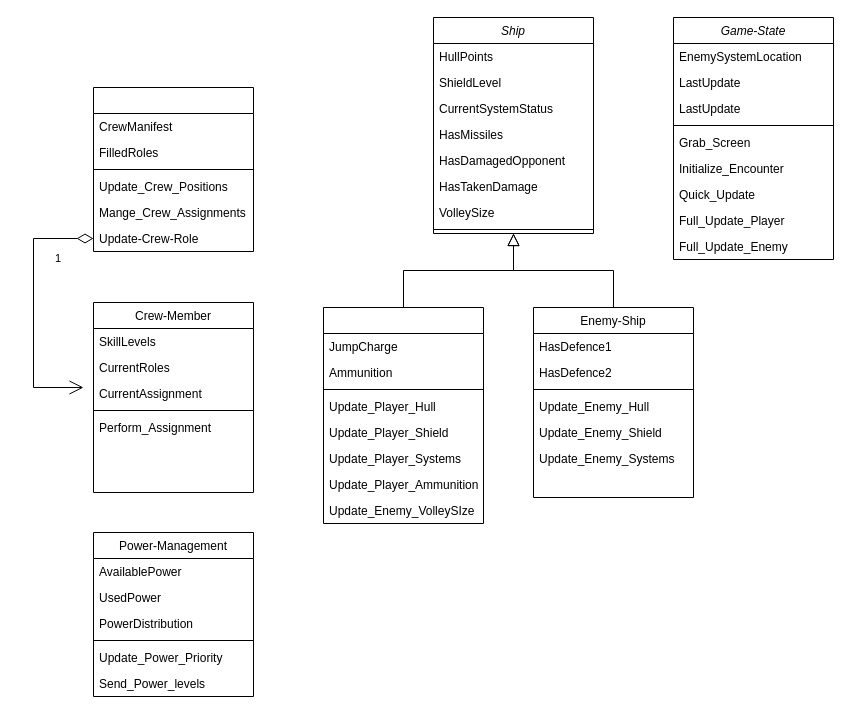
Some shapes in this 851 by 717 pixel diagram are drawn without their labels. The shapes that lost their labels are listed below. From the top down, each one's box as (x1, y1, x2, y2) in pixels, then its label:
(92, 86, 254, 252): Player-Crew
(322, 306, 484, 524): Player-Ship
